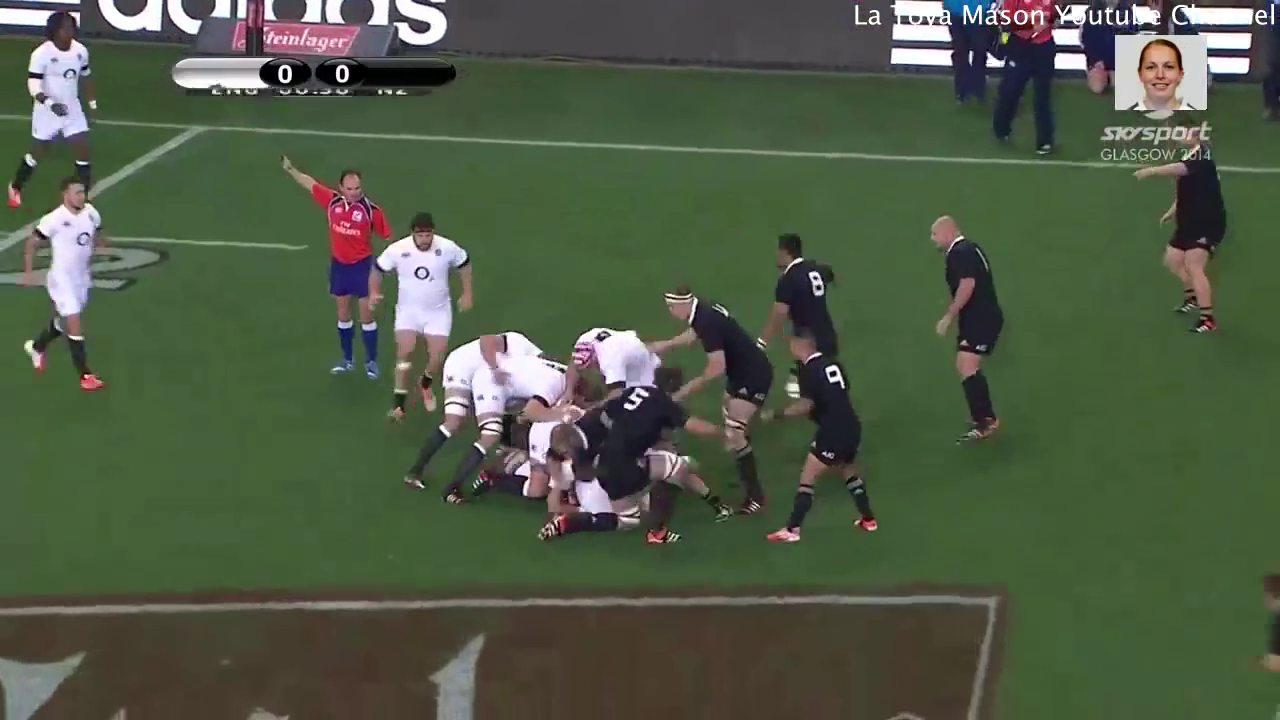player: (271, 149, 393, 384), (661, 279, 777, 516), (761, 324, 880, 548), (373, 202, 483, 427), (909, 212, 1012, 447), (25, 170, 117, 400), (10, 4, 99, 216), (1149, 116, 1227, 336), (766, 227, 848, 404)
ruck: (427, 324, 705, 556)
